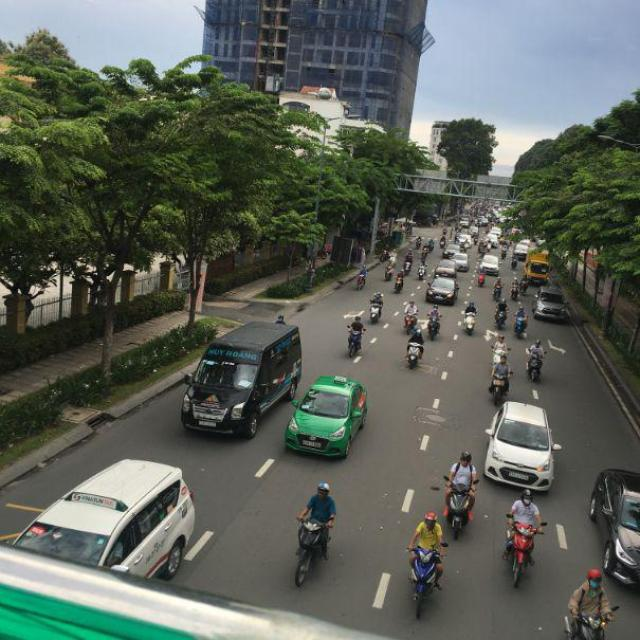car: (7, 460, 199, 579), (182, 321, 305, 440), (284, 373, 370, 460), (484, 400, 559, 492), (533, 284, 568, 321), (427, 275, 456, 306), (450, 254, 468, 272)
motorcycle: (293, 516, 332, 588), (409, 547, 447, 618), (503, 521, 540, 587), (443, 478, 478, 536), (560, 610, 616, 639), (347, 323, 363, 357), (526, 357, 542, 382), (514, 307, 527, 335)
truck: (525, 252, 552, 285)
